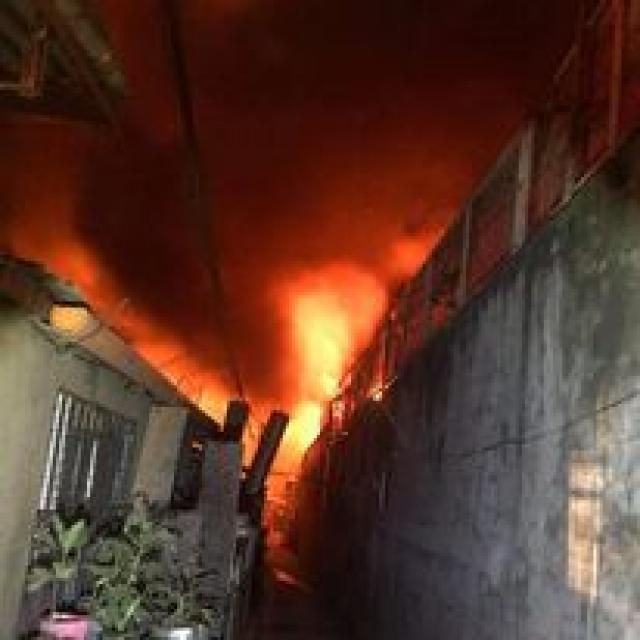Fire: (272, 388, 334, 516)
